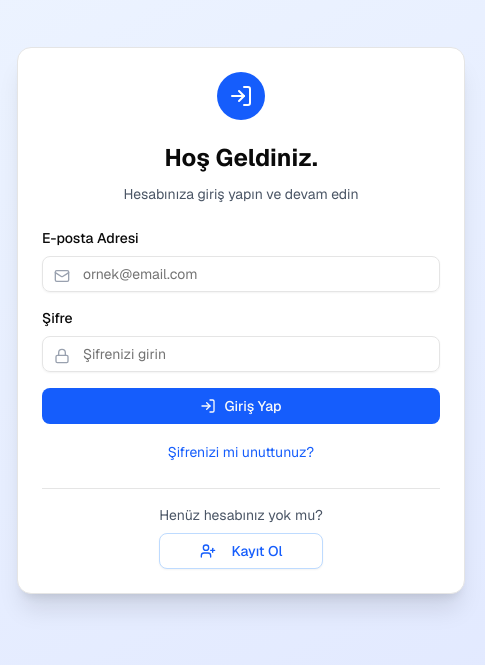
it: LoginForm › hatalı girişte uyarı mesajı gösterilir
Type "wrong@example.com" into the field labelled "E-posta Adresi" at (241, 274), box [42, 256, 440, 292]
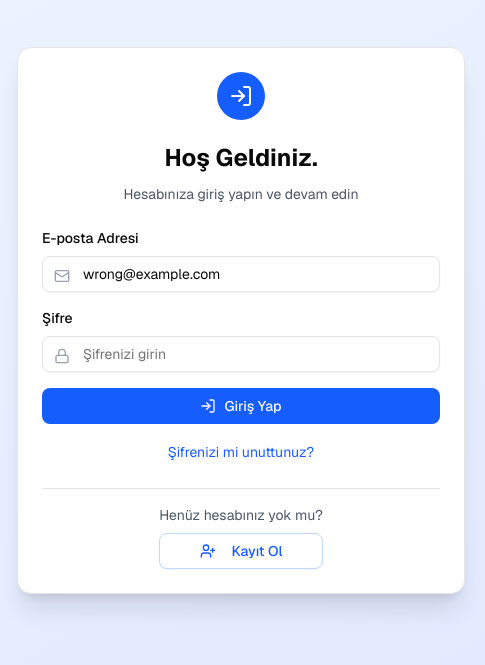
Type "wrongpass" into the password field labelled "Şifre" at (241, 354), box [42, 336, 440, 372]
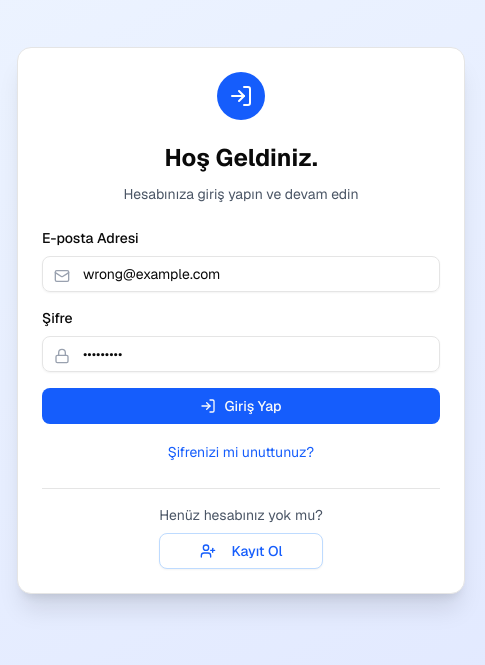
Click the button "Giriş Yap" at (241, 406), box [42, 388, 440, 424]
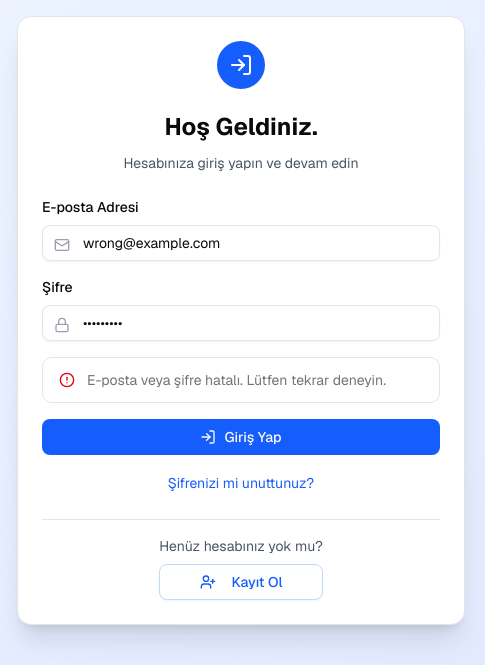
Expected: the text "E-posta veya şifre hatalı. Lütfen tekrar deneyin." is shown, [87, 370, 423, 390]
